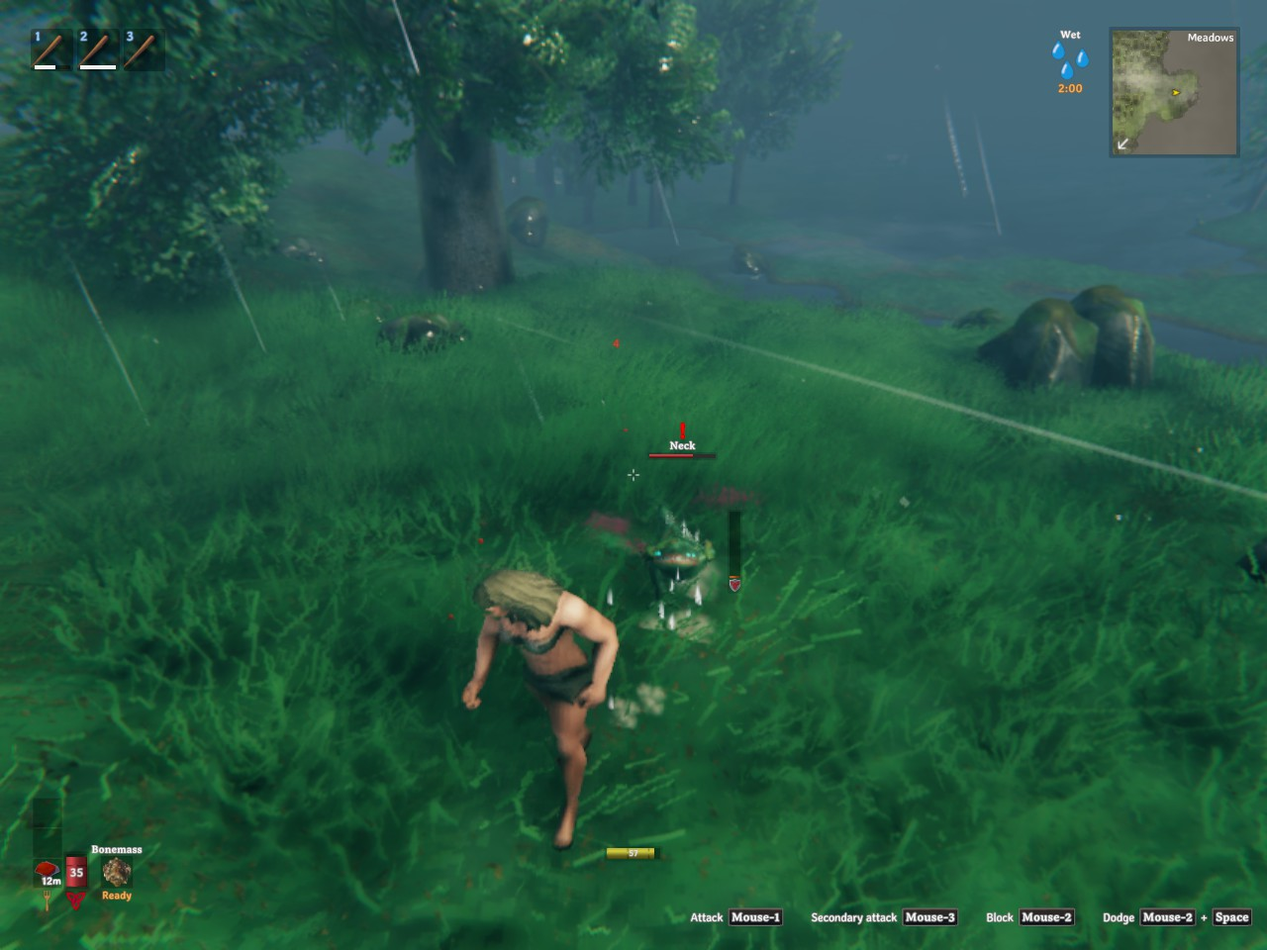Food Indicator: (36, 797, 63, 891)
Health Bar: (63, 820, 90, 891)
Hotbar: (24, 21, 195, 80)
Neck: (644, 531, 713, 579)
Stamina Bar: (604, 840, 669, 866)
Status Indicator: (1024, 22, 1111, 100)
